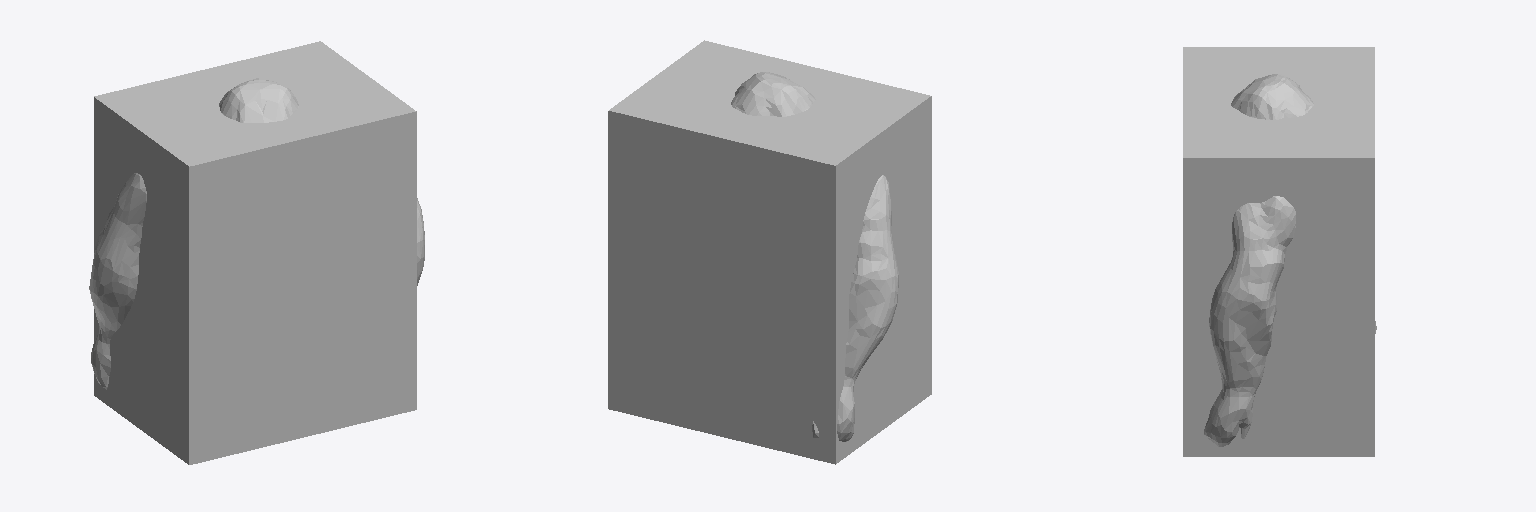
File: MagmaElemental_1_000023.obj
3 renders of one model, left to right at view 1: azimuth 30°, elevation 25°; view 2: azimuth 150°, elevation 25°; view 3: azimuth 270°, elevation 25°, orthographic.
Visible parts, largest first — view 1: Cube, Elemental_FireGolem; view 2: Cube, Elemental_FireGolem; view 3: Cube, Elemental_FireGolem.
Part boxes in pixels (x1,y1,x2,y2): Cube: (94, 41, 416, 464); Elemental_FireGolem: (89, 78, 424, 389); Cube: (608, 40, 931, 464); Elemental_FireGolem: (731, 72, 898, 441); Cube: (1183, 47, 1374, 456); Elemental_FireGolem: (1204, 74, 1376, 446).
Bounding box in the file's own units: 3.37 × 3.91 × 1.96.